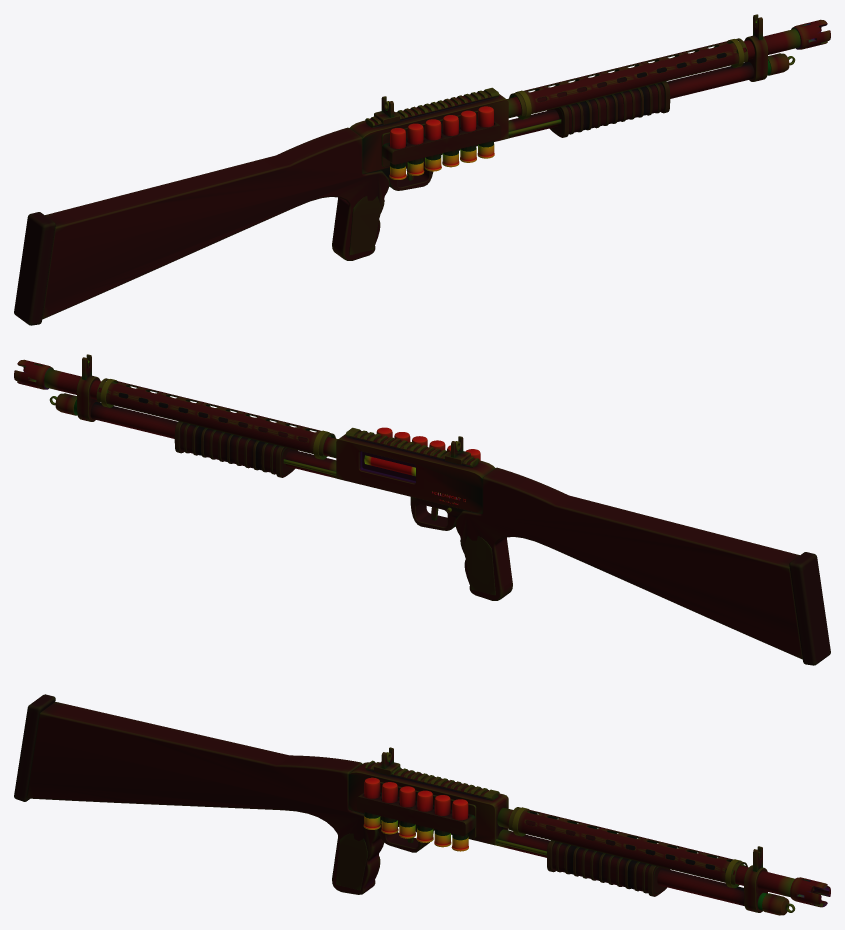
File: hollowpoint.glb
The picture shows the model from 3 angles, top to bottom: view 1: azimuth 30°, elevation 25°; view 2: azimuth 150°, elevation 25°; view 3: azimuth 330°, elevation 25°; orthographic projection.
Visible parts, largest first — view 1: base; view 2: base; view 3: base.
Part boxes in pixels (<box>): base: <box>14,14,830,325</box>; base: <box>14,354,830,665</box>; base: <box>14,694,830,915</box>.
Bounding box in the file's own units: 1.21 × 0.213 × 0.0703.
